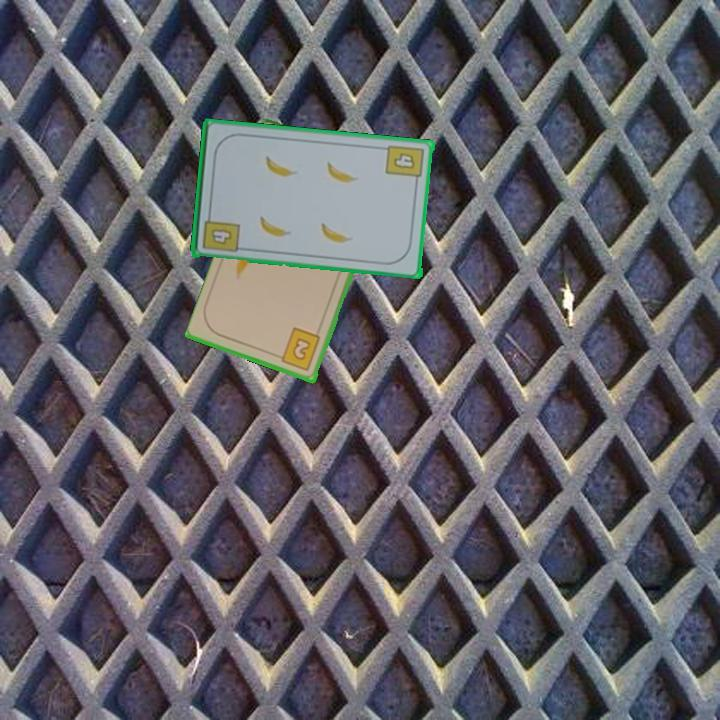2b: (273, 325, 324, 374)
4b: (383, 141, 427, 187), (199, 209, 242, 255)
